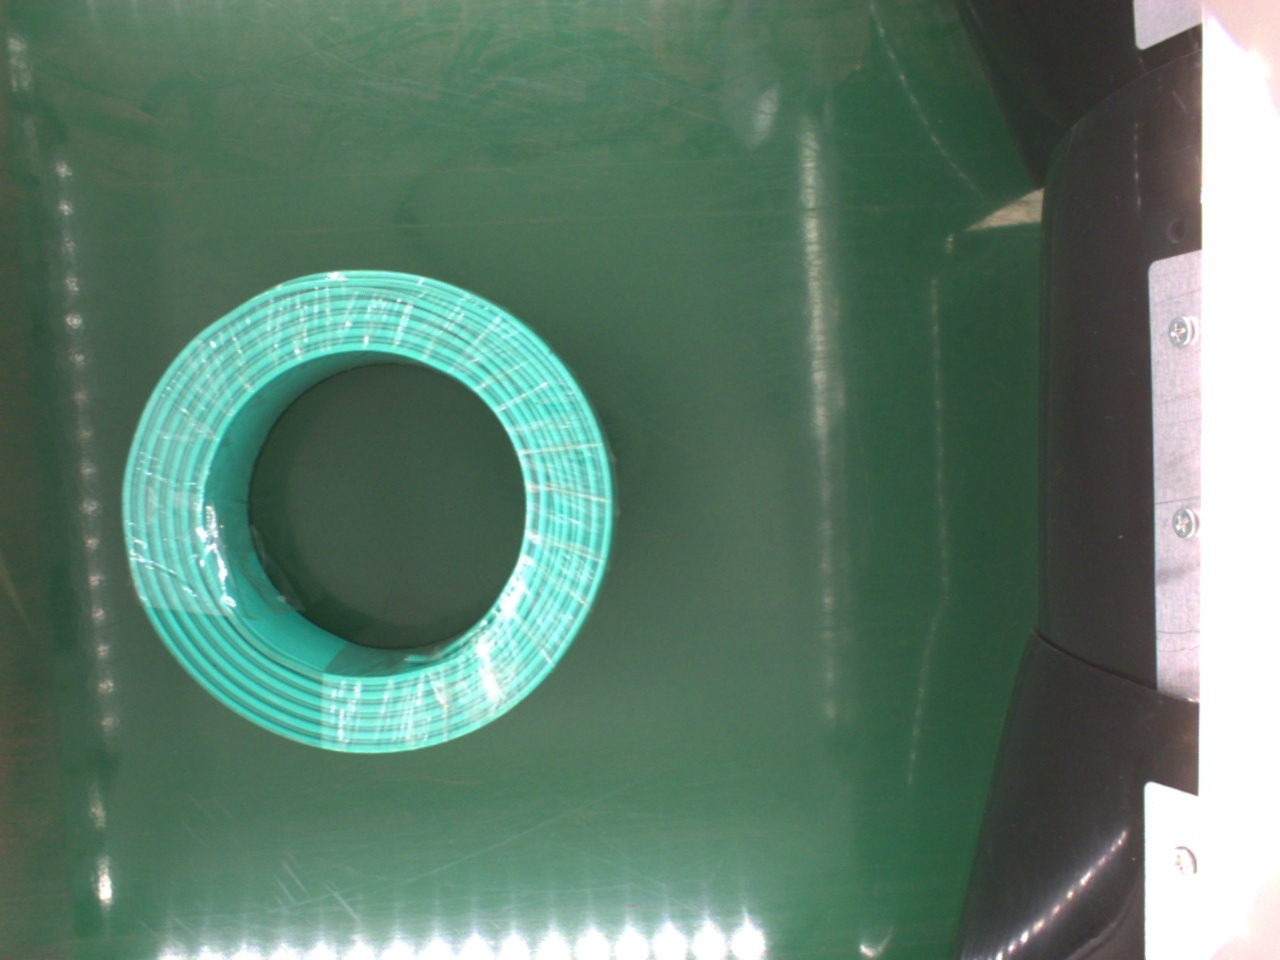green: (118, 270, 617, 756)
